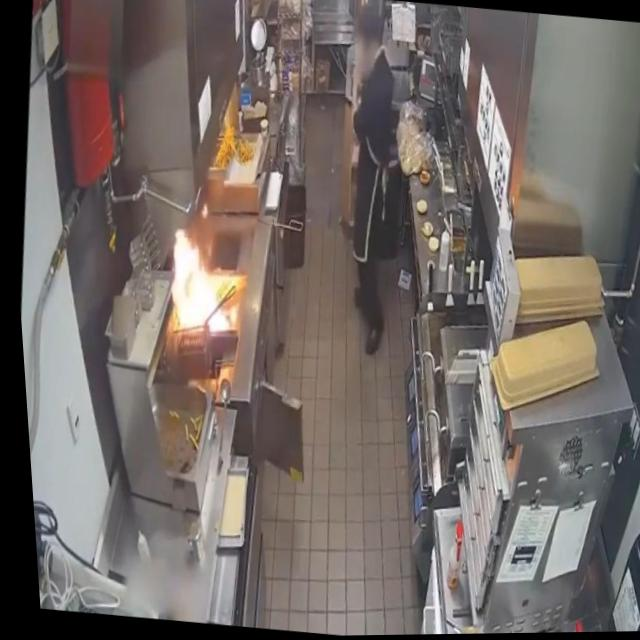fire: (156, 215, 243, 339), (196, 201, 208, 220)
